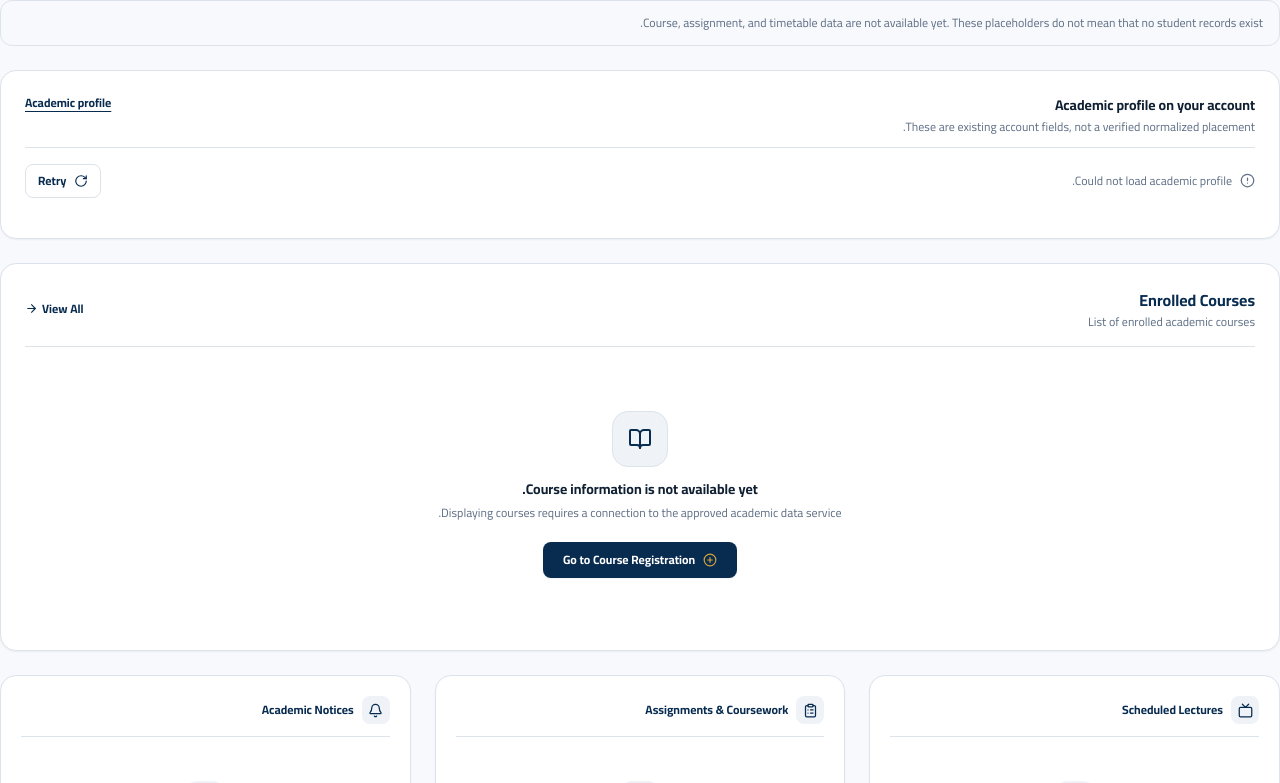
StudentDashboardPage academic profile › offers retry after a load error
Click the button "Retry". click: click(63, 180)
box: left=25, top=164, right=101, bottom=198
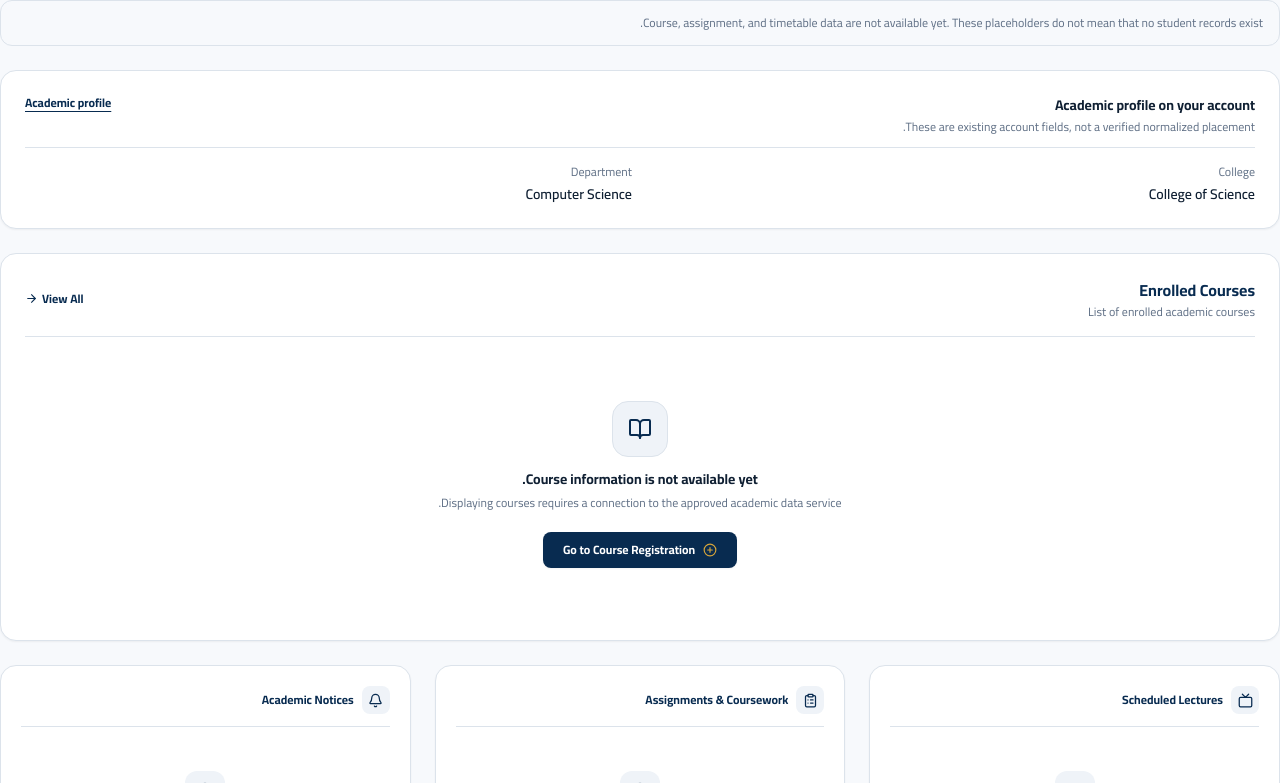
Check: the text "Computer Science" is shown, box left=525, top=180, right=632, bottom=206
